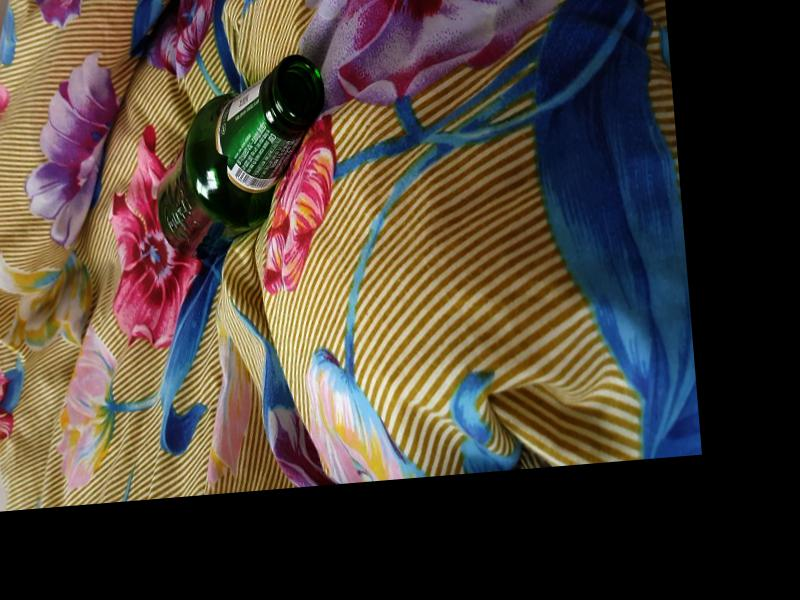Beer: (145, 50, 339, 262)
